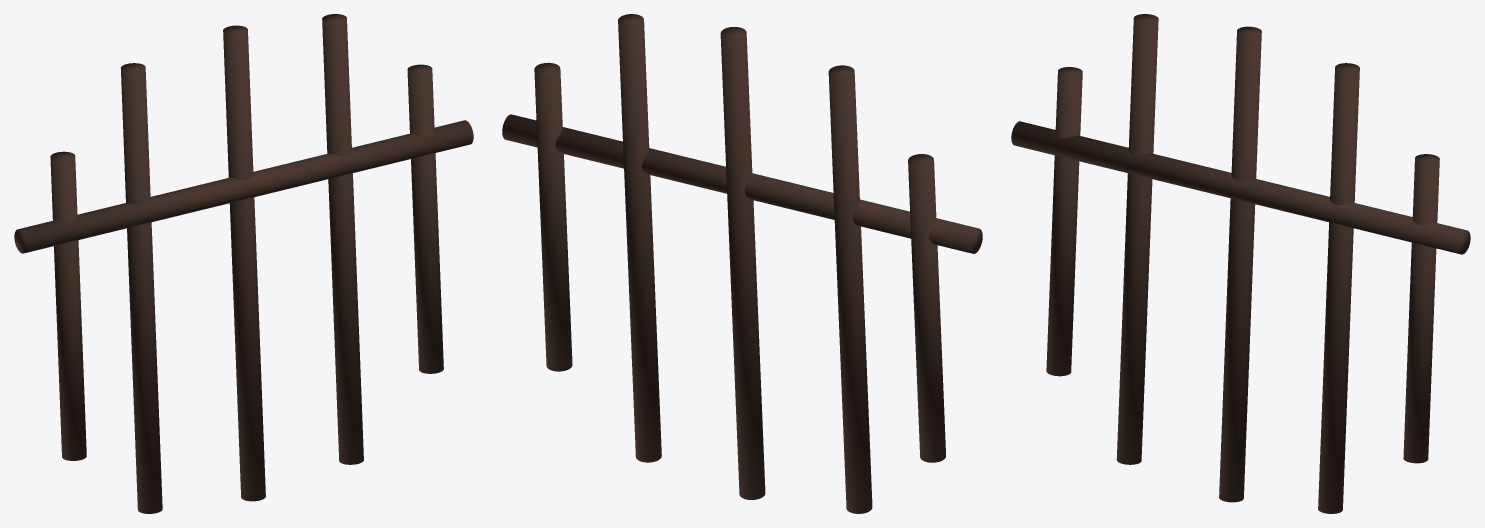
The model's file is grate.fbx.
3 renders of one model, left to right at view 1: azimuth 30°, elevation 25°; view 2: azimuth 150°, elevation 25°; view 3: azimuth 330°, elevation 25°, orthographic. The views are drawn at different scales.
Visible parts, largest first — view 1: grate; view 2: grate; view 3: grate.
Boxes of the visible parts, x1,y1,x2,y2 form: grate: (14,14,473,513); grate: (502,14,982,513); grate: (1011,14,1470,513).
Bounding box in the file's own units: 72.71 × 70.76 × 8.57.
